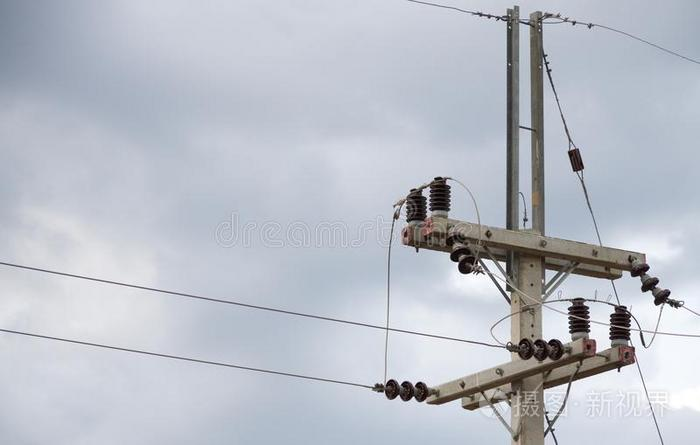insulator: (628, 263, 672, 304), (445, 230, 476, 274), (519, 339, 566, 364), (385, 378, 429, 404)
